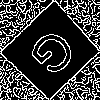G: (26, 25, 87, 86)
